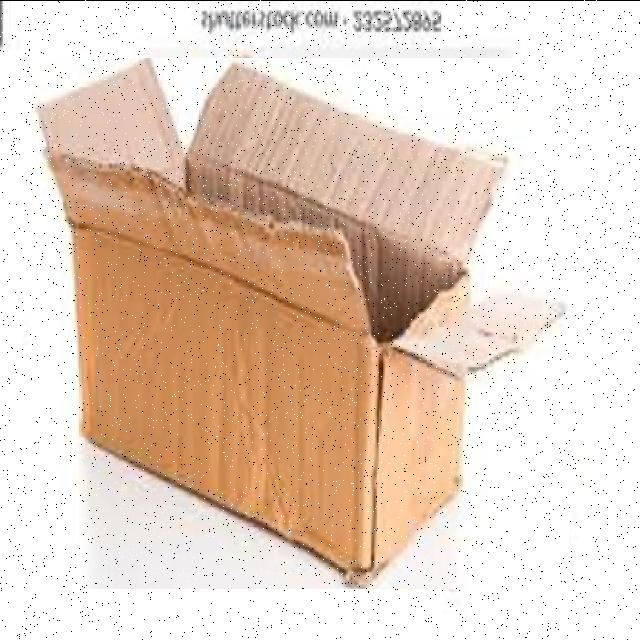defect: (31, 57, 569, 588)
